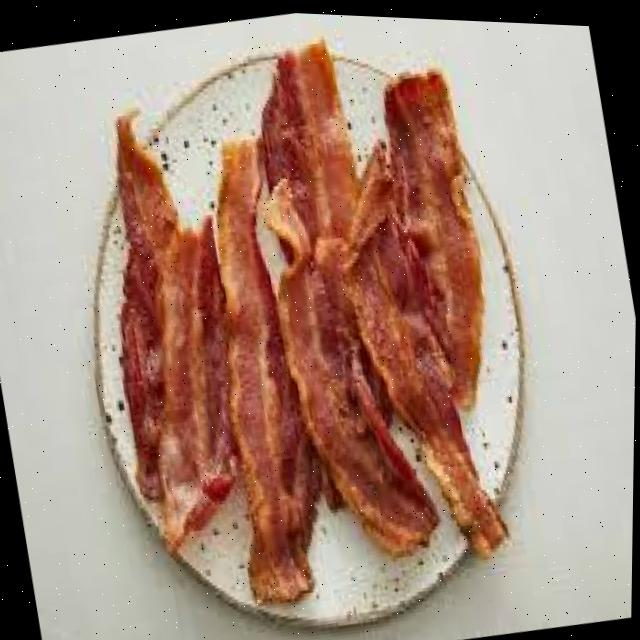Bacon: (260, 40, 437, 547), (346, 147, 508, 548), (217, 136, 320, 600), (385, 66, 481, 400), (188, 216, 239, 500), (119, 169, 162, 497)
